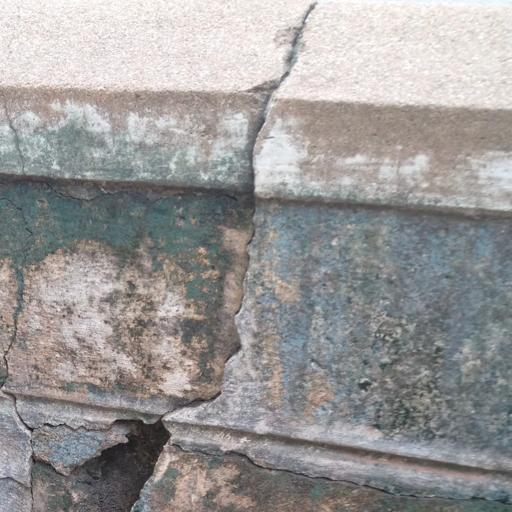major_crack: (1, 290, 512, 512), (236, 0, 341, 288)
